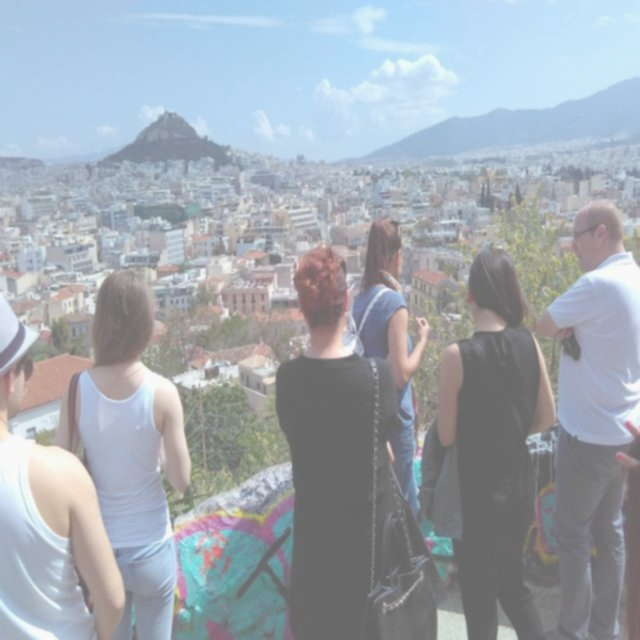pessoa: (272, 243, 448, 639), (416, 243, 562, 639), (47, 261, 198, 639), (533, 195, 639, 639), (0, 282, 129, 640), (351, 216, 432, 522), (612, 415, 639, 639)
